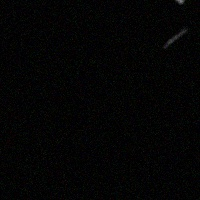chromosome: (174, 0, 191, 4)
